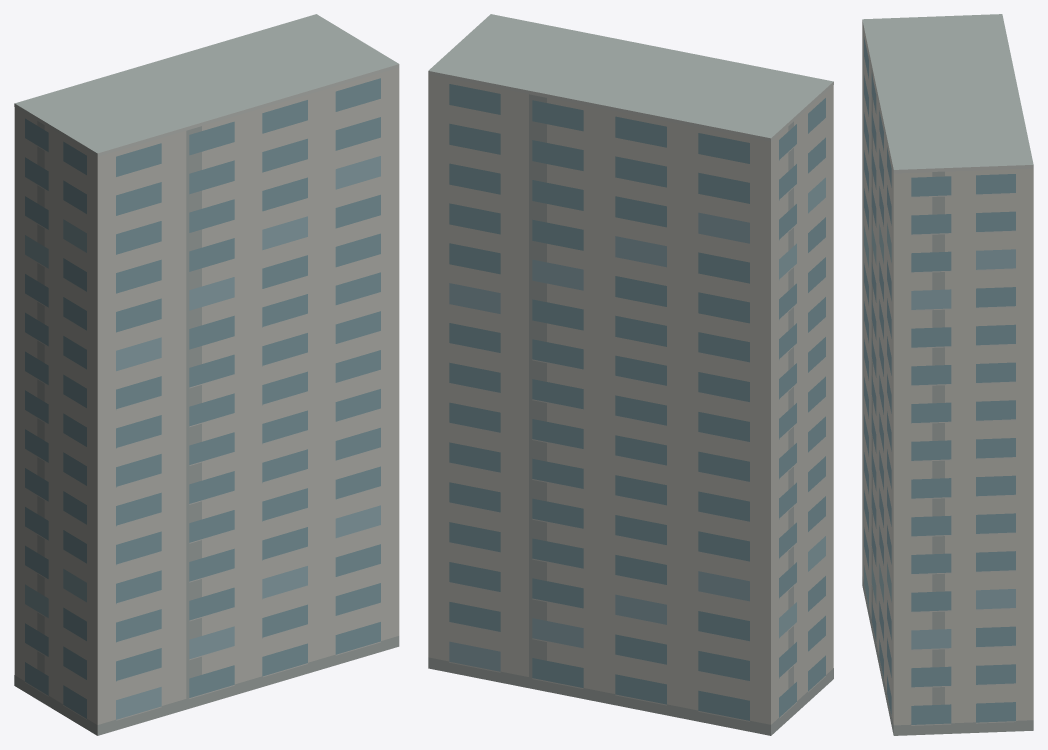
The model's file is residential-de09d796-9669-4971-b7d3-72d32eea6ff7.glb.
3 views of the same model, side by side, from view 1: azimuth 30°, elevation 25°; view 2: azimuth 150°, elevation 25°; view 3: azimuth 270°, elevation 25° (orthographic). The views are drawn at different scales.
Visible parts, largest first — view 1: residential-de09d796-9669-4971-b7d3-72d32eea6ff7.tmp; view 2: residential-de09d796-9669-4971-b7d3-72d32eea6ff7.tmp; view 3: residential-de09d796-9669-4971-b7d3-72d32eea6ff7.tmp.
Part boxes in pixels (<box>): residential-de09d796-9669-4971-b7d3-72d32eea6ff7.tmp: <box>14,14,399,735</box>; residential-de09d796-9669-4971-b7d3-72d32eea6ff7.tmp: <box>428,14,833,735</box>; residential-de09d796-9669-4971-b7d3-72d32eea6ff7.tmp: <box>862,14,1033,735</box>.
Bounding box in the file's own units: 23.66 × 40 × 10.99.
